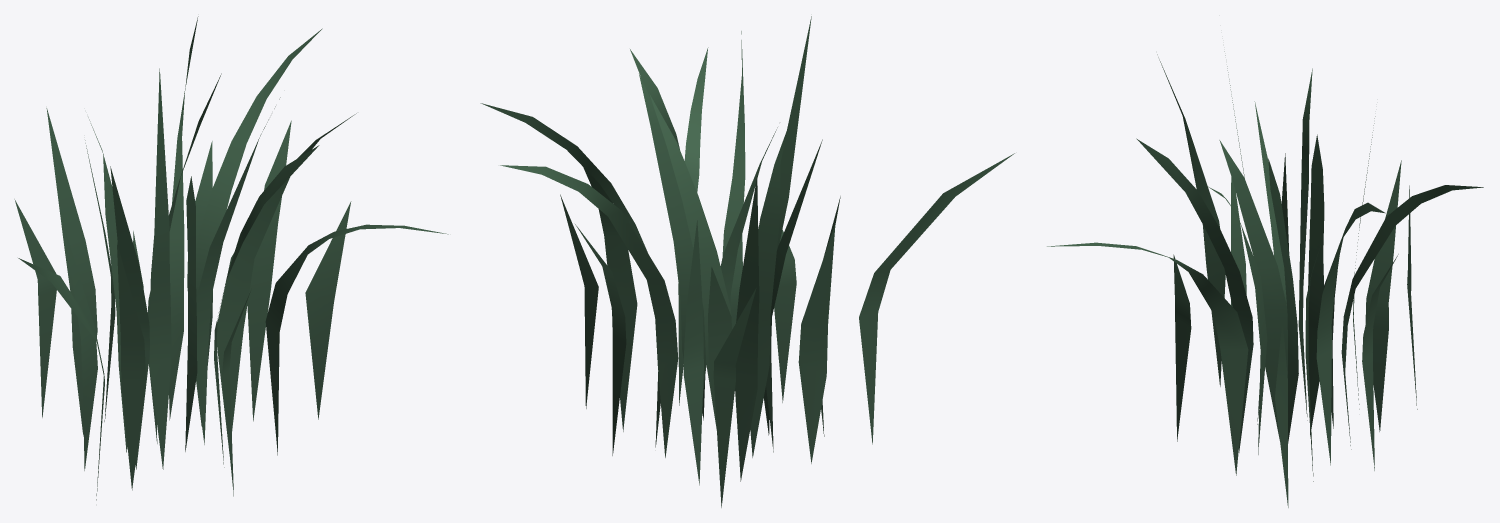
The model's file is trees-grasses-grass-clump_v3.glb.
The picture shows the model from 3 angles, left to right: view 1: azimuth 30°, elevation 25°; view 2: azimuth 150°, elevation 25°; view 3: azimuth 270°, elevation 25°; orthographic projection. The views are drawn at different scales.
Parts seen in each view (by area): view 1: Grass Clump_v3; view 2: Grass Clump_v3; view 3: Grass Clump_v3.
Boxes of the visible parts, x1=… form: Grass Clump_v3: x1=14, y1=16, x2=448, y2=500; Grass Clump_v3: x1=480, y1=16, x2=1014, y2=507; Grass Clump_v3: x1=1047, y1=51, x2=1483, y2=507.
Bounding box in the file's own units: 0.4 × 0.3828 × 0.3772.
